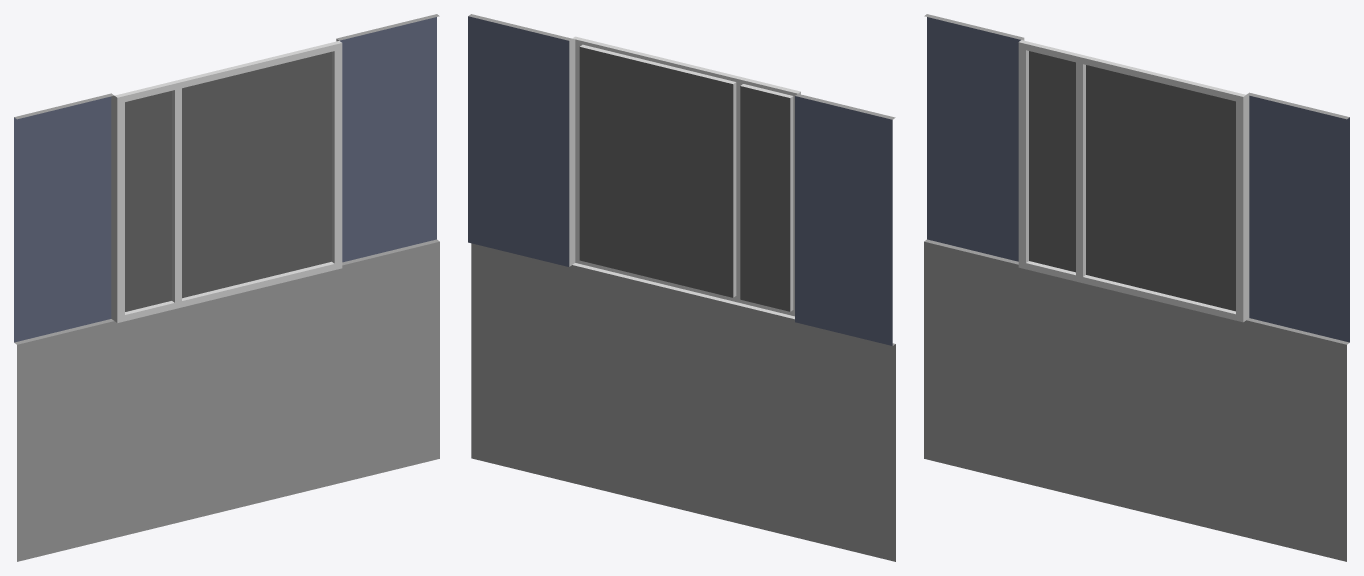
The model's file is S1_Window.fbx.
3 renders of one model, left to right at view 1: azimuth 30°, elevation 25°; view 2: azimuth 150°, elevation 25°; view 3: azimuth 330°, elevation 25°, orthographic.
Parts seen in each view (by area): view 1: S1_Window; view 2: S1_Window; view 3: S1_Window.
Boxes of the visible parts, x1,y1,x2,y2 form: S1_Window: (14, 14, 439, 561); S1_Window: (468, 14, 895, 561); S1_Window: (924, 14, 1349, 561).
Bounding box in the file's own units: 30 × 30 × 0.733.
